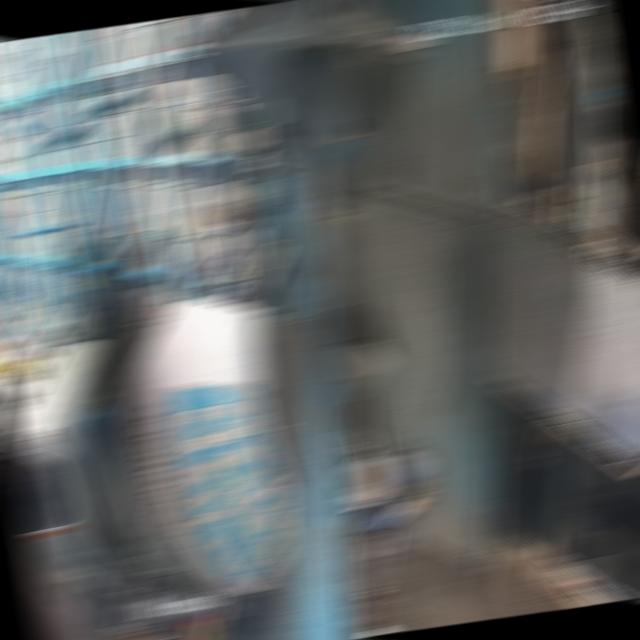cement_mixer_truck: (8, 300, 414, 639)
swing_chute: (268, 122, 376, 335)
